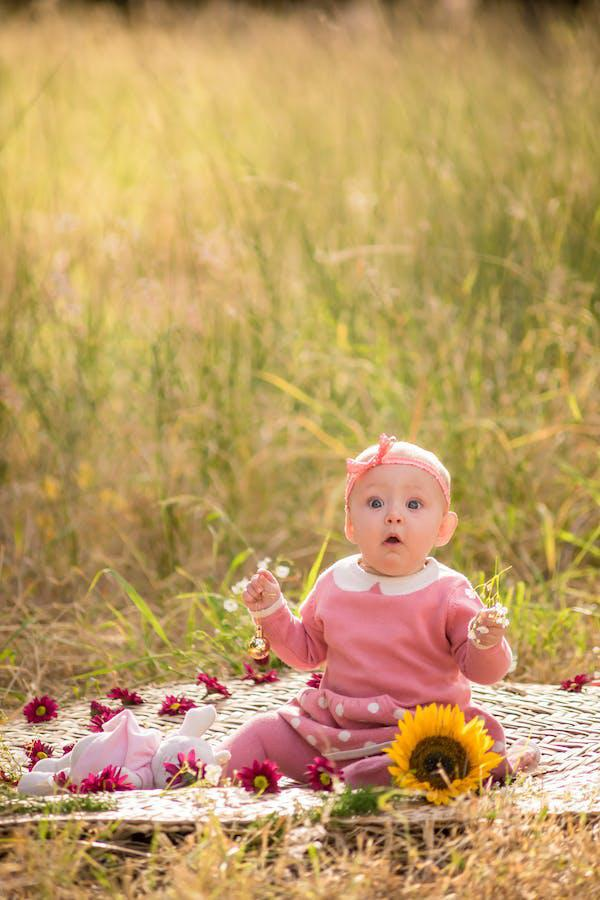child: (208, 417, 567, 825)
